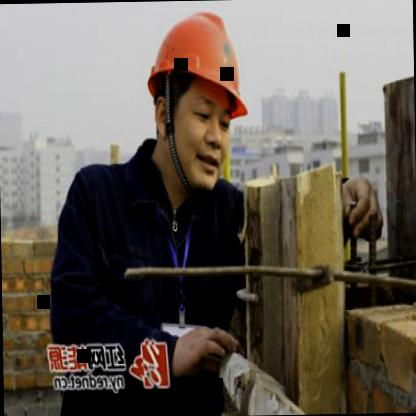helmet: (138, 0, 262, 192)
